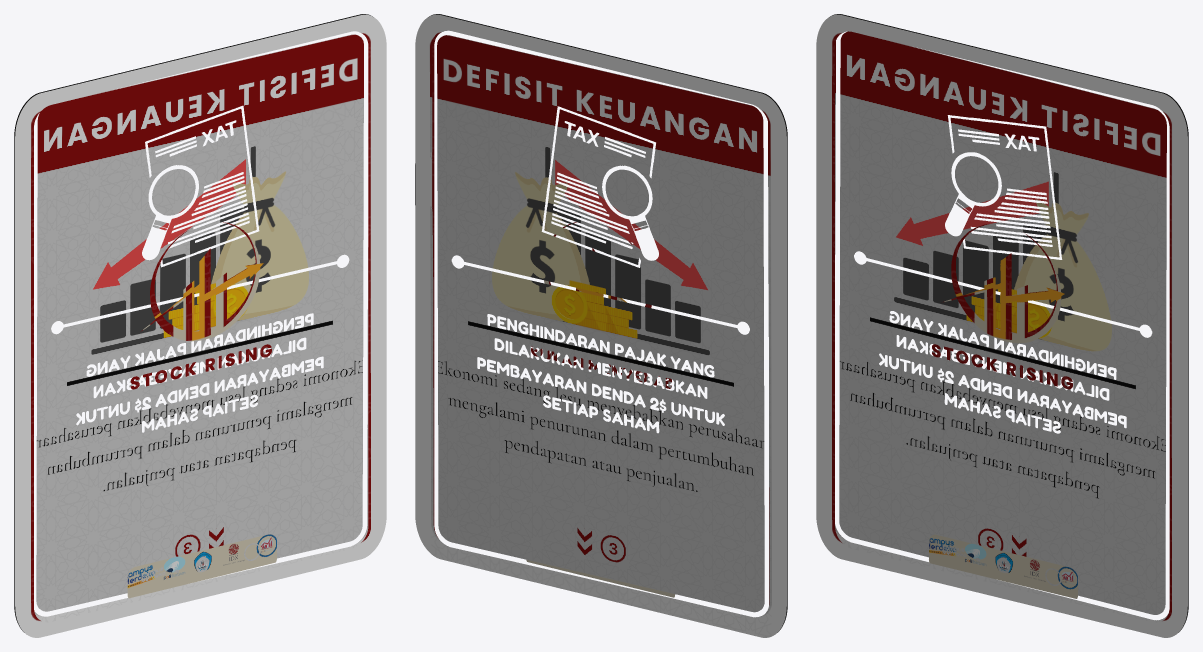
Rendered from Defisit Keuangan.fbx.
3 renders of one model, left to right at view 1: azimuth 30°, elevation 25°; view 2: azimuth 150°, elevation 25°; view 3: azimuth 330°, elevation 25°, orthographic.
Parts seen in each view (by area): view 1: Cube.001; view 2: Cube.001; view 3: Cube.001.
Part boxes in pixels (x1=…): Cube.001: x1=14, y1=14, x2=386, y2=637; Cube.001: x1=415, y1=14, x2=787, y2=637; Cube.001: x1=816, y1=14, x2=1188, y2=637.
Size of the model in its own units: 500 by 700 by 2.
